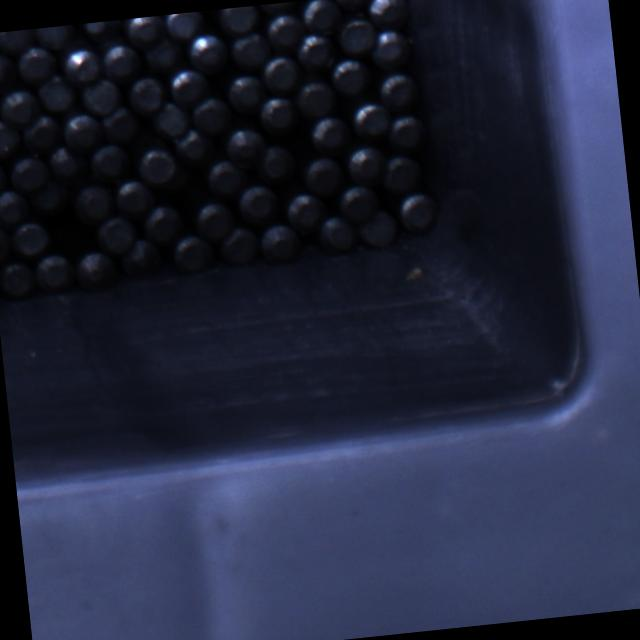tool: (186, 28, 231, 74), (74, 248, 120, 292), (237, 182, 282, 226), (258, 222, 302, 266), (284, 191, 328, 235), (222, 124, 266, 168), (62, 110, 106, 153), (72, 182, 116, 225), (114, 176, 157, 220), (141, 202, 185, 245), (172, 125, 216, 168), (171, 232, 216, 274), (56, 40, 101, 82), (193, 200, 237, 242), (398, 190, 440, 234), (20, 110, 64, 152), (204, 158, 248, 200), (348, 100, 392, 142), (46, 144, 90, 186), (17, 44, 60, 86), (94, 215, 137, 257), (34, 252, 77, 294), (100, 40, 142, 83), (303, 154, 346, 196), (217, 224, 260, 266), (119, 238, 162, 280), (226, 72, 268, 115), (80, 74, 124, 115), (125, 74, 167, 116), (346, 144, 388, 186), (136, 144, 178, 186), (258, 52, 300, 94), (382, 150, 424, 192), (256, 92, 298, 134), (254, 142, 296, 184), (330, 57, 373, 98), (378, 70, 421, 111), (86, 142, 130, 182), (28, 178, 72, 218), (142, 34, 186, 74), (36, 73, 78, 114), (8, 153, 50, 194), (168, 66, 210, 107), (229, 30, 272, 70), (295, 32, 338, 72), (336, 183, 378, 223), (357, 207, 399, 247), (0, 85, 40, 127), (190, 94, 232, 134), (294, 78, 336, 118), (264, 10, 306, 50), (317, 212, 359, 252), (150, 100, 192, 140), (309, 112, 351, 152), (370, 26, 410, 68), (101, 104, 142, 144), (9, 220, 52, 258), (388, 112, 428, 152), (337, 15, 378, 54), (121, 15, 168, 48), (0, 259, 35, 300), (300, 0, 342, 33), (0, 187, 32, 228), (163, 10, 205, 40), (365, 0, 409, 28), (222, 5, 262, 33), (34, 24, 76, 50), (0, 28, 38, 55), (0, 115, 21, 159), (0, 50, 18, 93), (0, 224, 12, 264), (0, 157, 8, 197)
